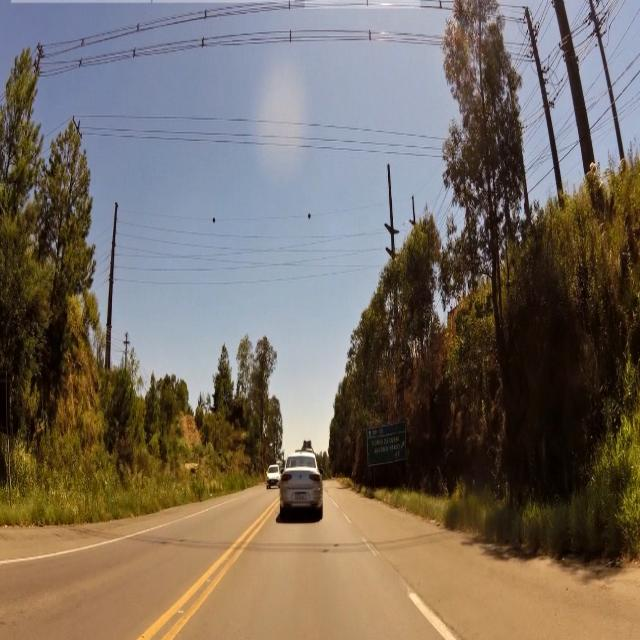I-4: (368, 424, 409, 462)
